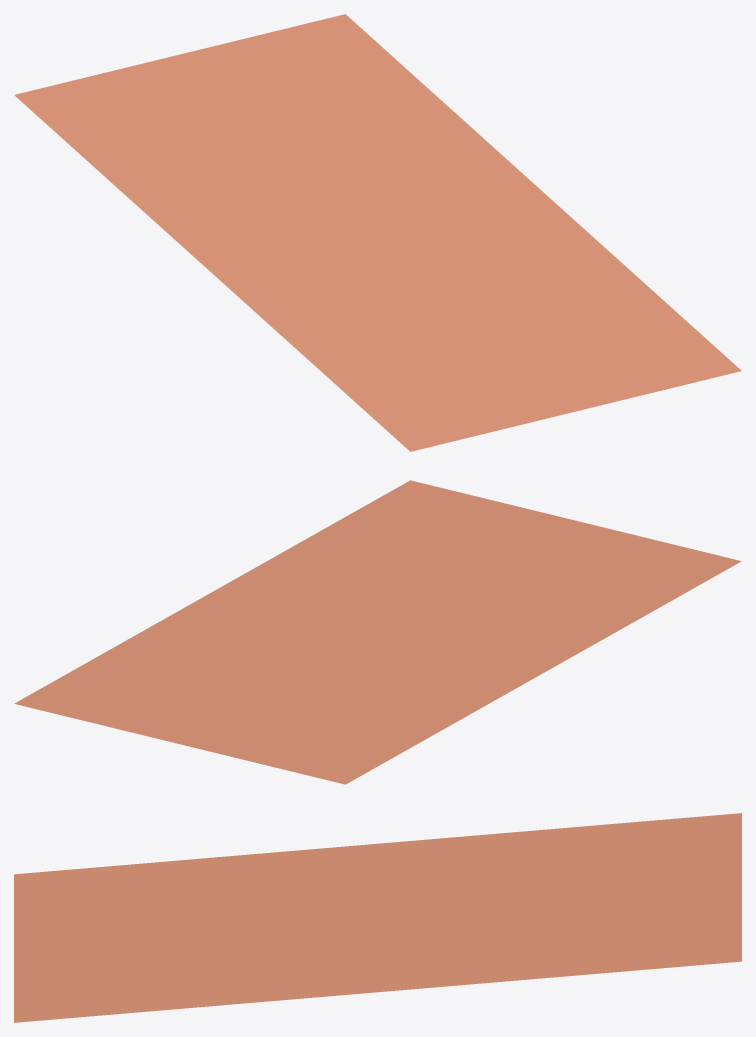
File: deco_def3.gltf
3 renders of one model, top to bottom at view 1: azimuth 30°, elevation 25°; view 2: azimuth 150°, elevation 25°; view 3: azimuth 270°, elevation 25°, orthographic. The views are drawn at different scales.
Parts seen in each view (by area): view 1: deco_def3; view 2: deco_def3; view 3: deco_def3.
Part boxes in pixels (box(x1,y1,x2,y2)): deco_def3: box(14, 14, 741, 451); deco_def3: box(14, 480, 741, 784); deco_def3: box(14, 813, 741, 1022).
Size of the model in its own units: 0.127 by 0.0244 by 0.2629.
